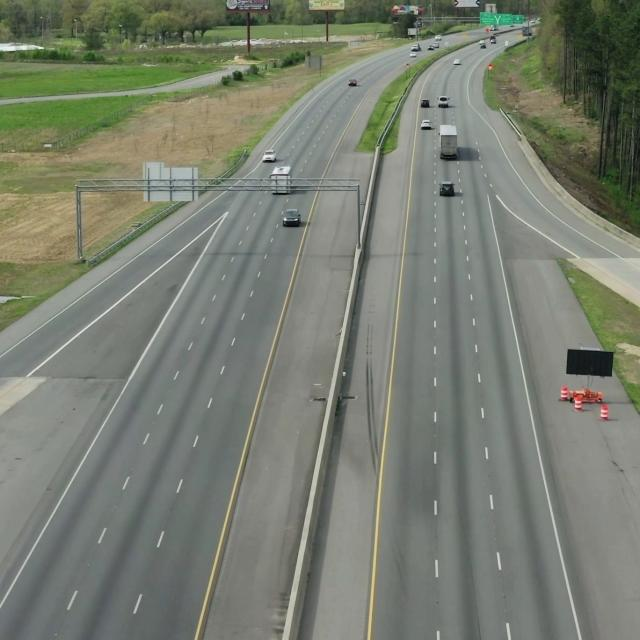Car: (440, 124, 462, 163), (282, 205, 306, 228), (439, 179, 458, 201)
